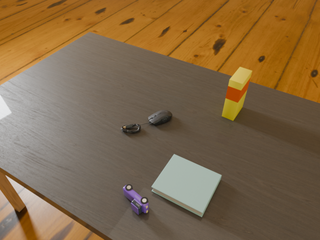book: (152, 154, 221, 217)
box: (222, 67, 252, 120)
mouse: (148, 110, 172, 125)
toy_car: (123, 184, 149, 214)
